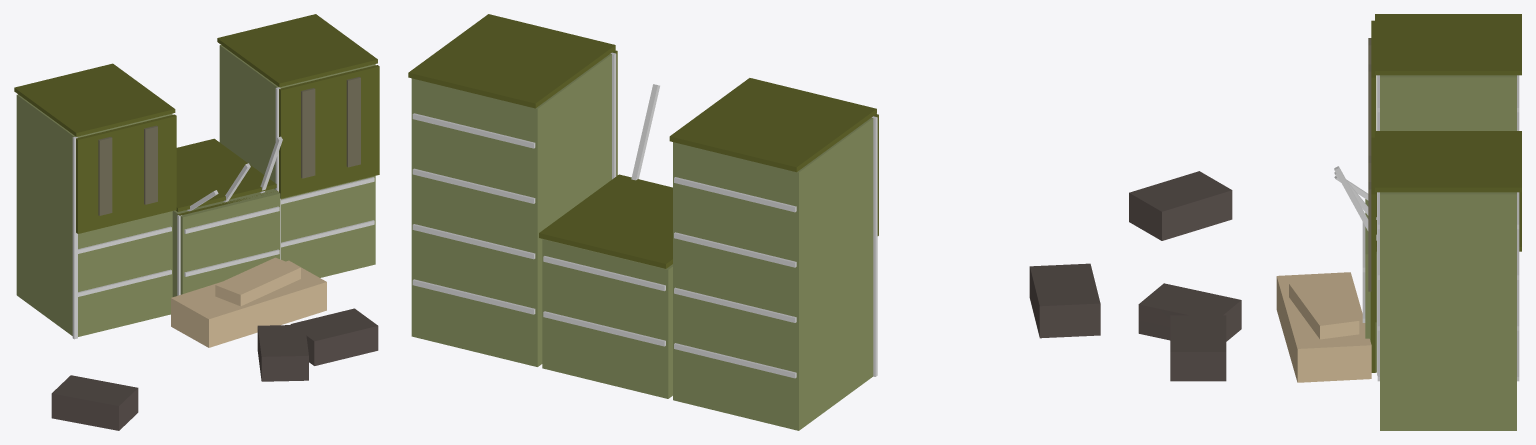
The model's file is SM_HescoCorto3_v4_Red_e1_Danado_LOD0.fbx.
3 views of the same model, side by side, from view 1: azimuth 30°, elevation 25°; view 2: azimuth 150°, elevation 25°; view 3: azimuth 270°, elevation 25° (orthographic). The views are drawn at different scales.
Visible parts, largest first — view 1: SM_hesco_piezas_v97_LOD0; view 2: SM_hesco_piezas_v97_LOD0; view 3: SM_hesco_piezas_v97_LOD0.
Boxes of the visible parts, bbox=[...] form: SM_hesco_piezas_v97_LOD0: bbox=[14, 14, 379, 430]; SM_hesco_piezas_v97_LOD0: bbox=[408, 14, 1100, 430]; SM_hesco_piezas_v97_LOD0: bbox=[1129, 14, 1521, 430].
Bounding box in the file's own units: 4.39 × 2.16 × 3.16.
